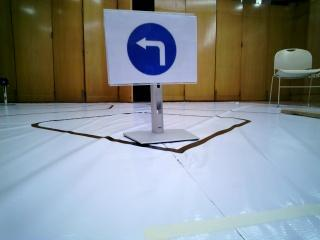left: (105, 8, 197, 87)
